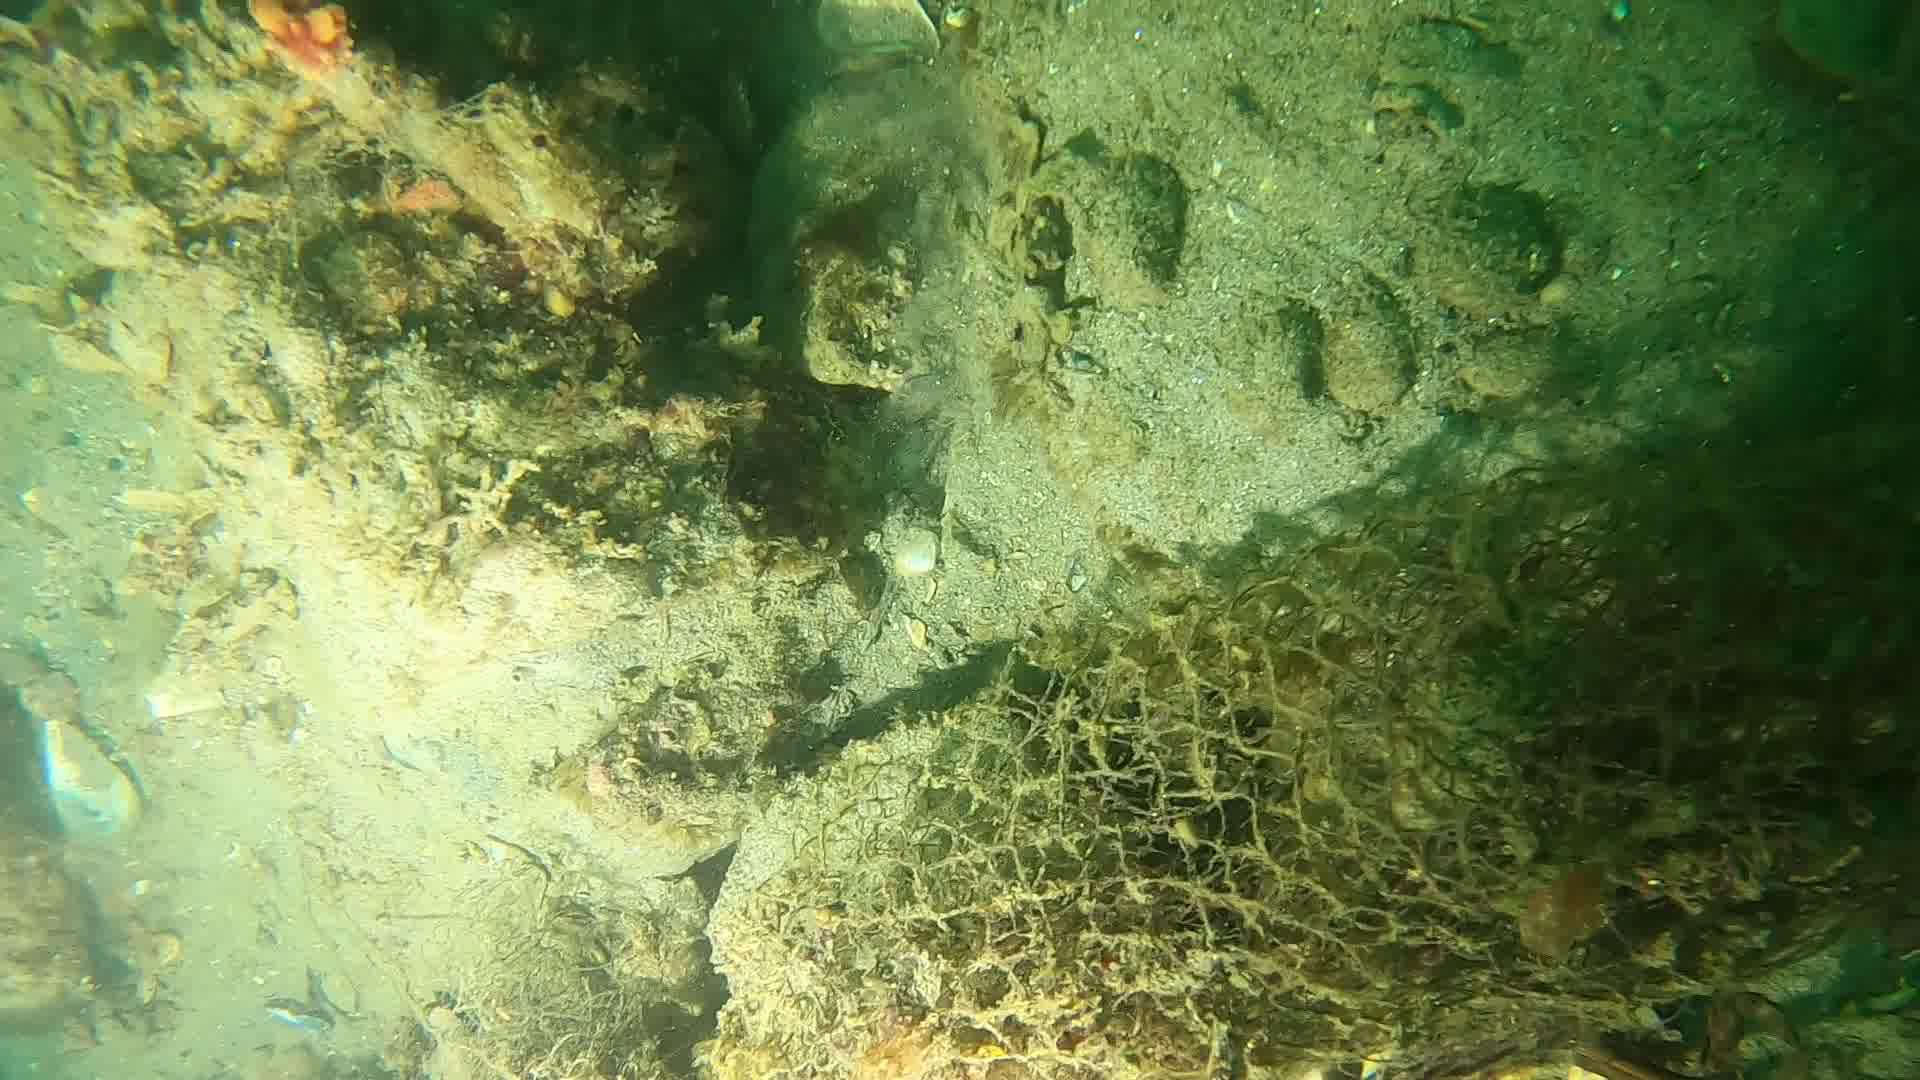fish net: (783, 462, 1753, 1080)
